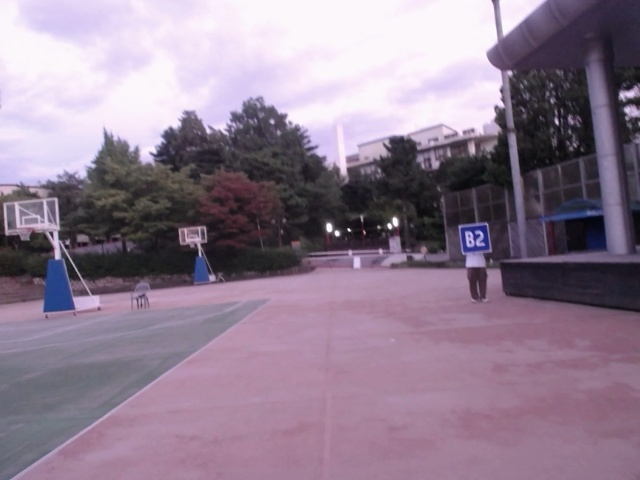delivery_b2: (458, 223, 492, 255)
